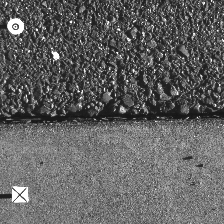circle: (7, 17, 24, 35)
crack: (1, 109, 223, 126)
square: (11, 186, 27, 202)
